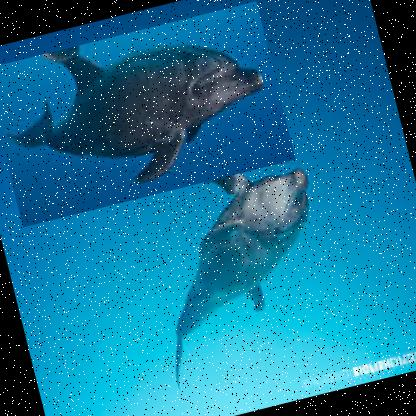blue_whale: (0, 0, 297, 228), (110, 146, 367, 392)
